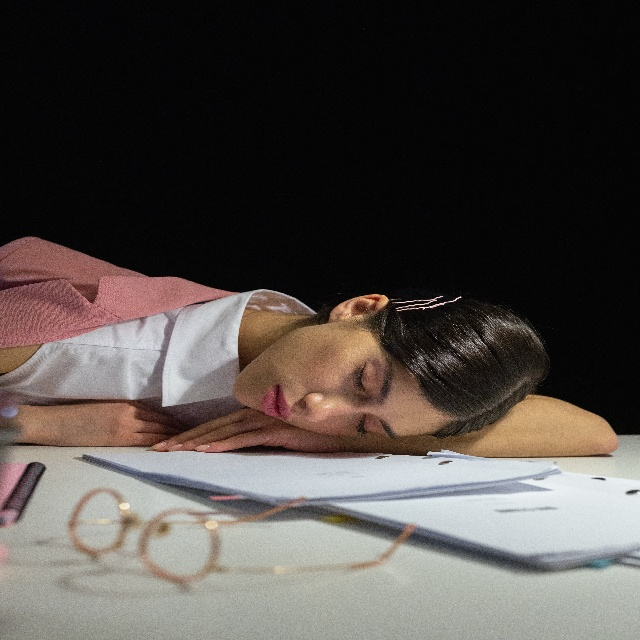Gafas: (66, 486, 414, 585)
Sin_guantes: (152, 410, 344, 452), (42, 400, 187, 447)
